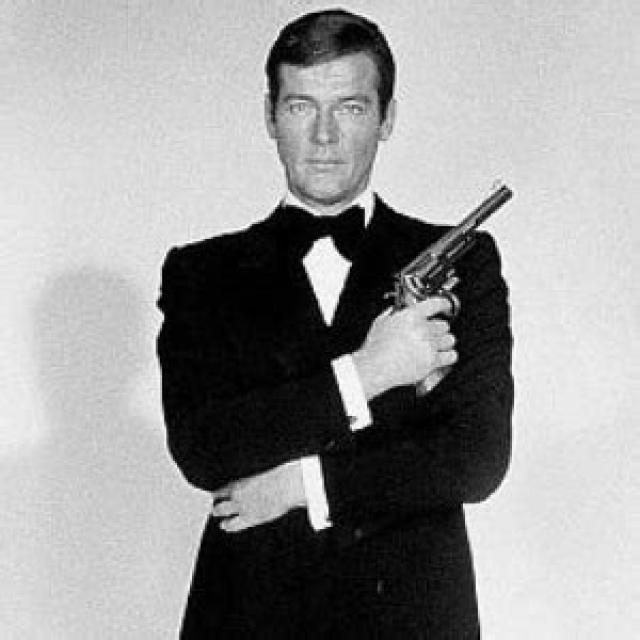weapons: (383, 170, 531, 397)
